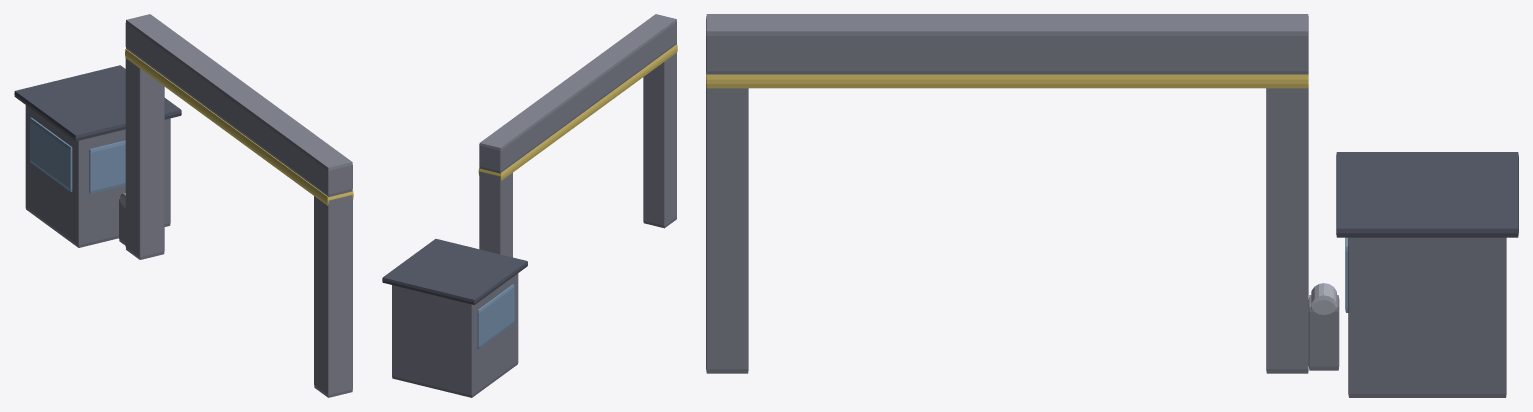
File: guvenlik.glb
3 renders of one model, left to right at view 1: azimuth 30°, elevation 25°; view 2: azimuth 150°, elevation 25°; view 3: azimuth 270°, elevation 25°, orthographic. The views are drawn at different scales.
Parts seen in each view (by area): view 1: Guvenlik; view 2: Guvenlik; view 3: Guvenlik.
Part boxes in pixels (left/top/right/bottom): Guvenlik: left=14, top=14, right=353, bottom=397; Guvenlik: left=382, top=14, right=677, bottom=397; Guvenlik: left=706, top=14, right=1518, bottom=397.
Bounding box in the file's own units: 3 × 6.2 × 13.35.
